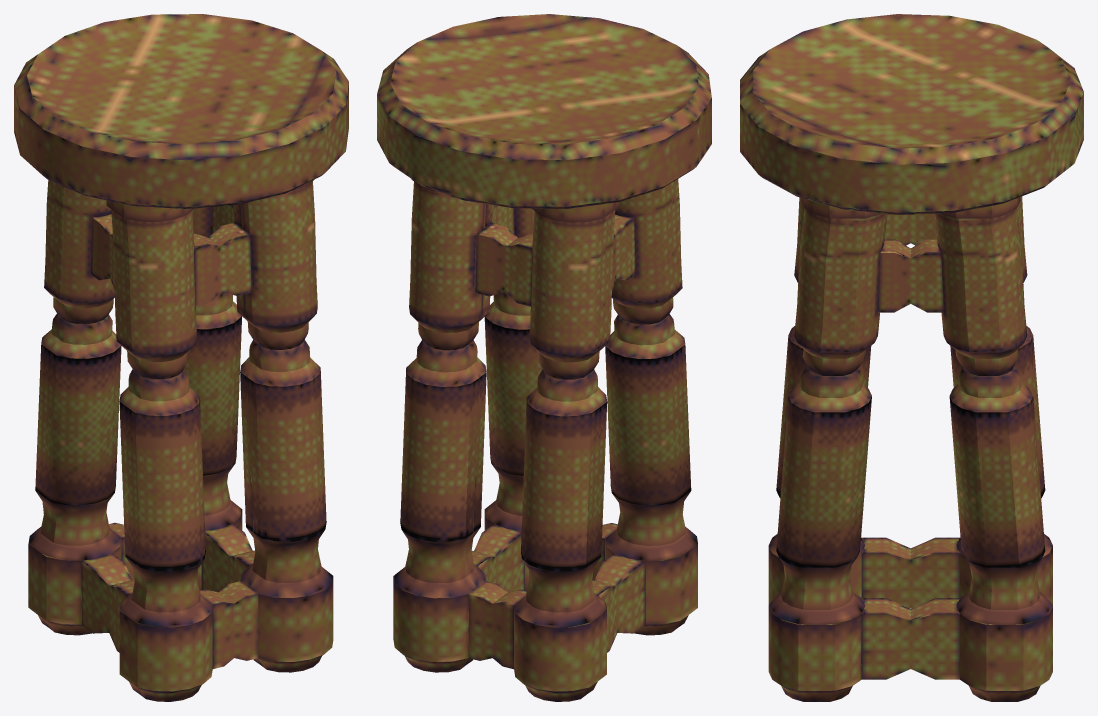
File: Taburete_01.fbx
3 views of the same model, side by side, from view 1: azimuth 30°, elevation 25°; view 2: azimuth 150°, elevation 25°; view 3: azimuth 270°, elevation 25° (orthographic). The views are drawn at different scales.
Parts seen in each view (by area): view 1: Taburete_01.002; view 2: Taburete_01.002; view 3: Taburete_01.002.
Part boxes in pixels (x1=…): Taburete_01.002: x1=14, y1=14, x2=348, y2=701; Taburete_01.002: x1=377, y1=14, x2=711, y2=701; Taburete_01.002: x1=740, y1=14, x2=1083, y2=701.
Bounding box in the file's own units: 37.18 × 68.65 × 37.05.
